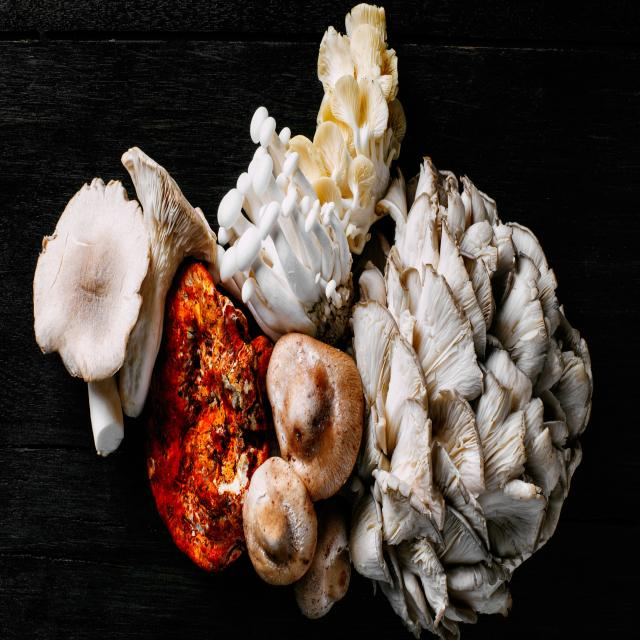mushroom: (38, 16, 602, 624)
